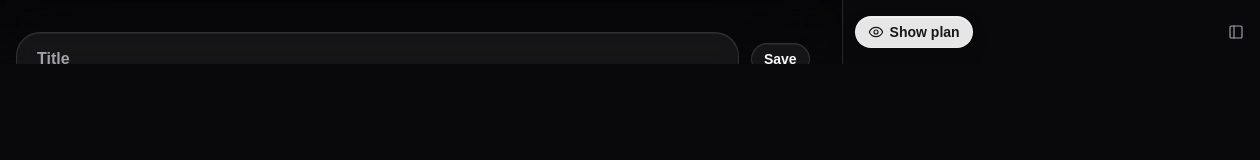
Test: CoachWorkspace layout › hides and reopens the desktop artifact without navigating or clearing it
Click the button "Show plan" at (914, 32), box [855,16,973,48]
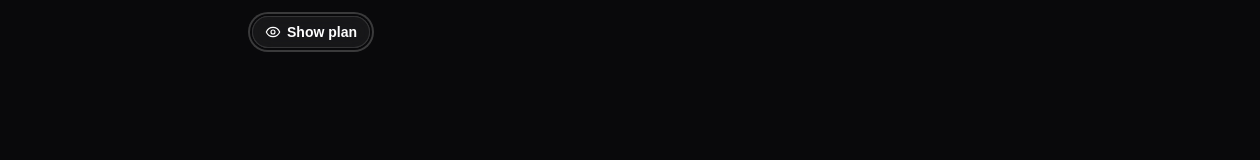
Now the button "Save" is gone
Click the button "Show plan" at (311, 32), box [252,16,370,48]
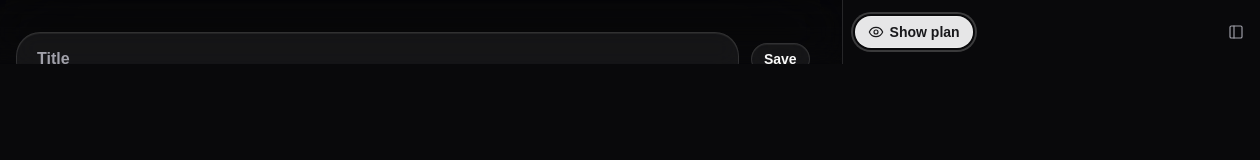
Now the button "Save" is shown, box [751,43,810,64]
